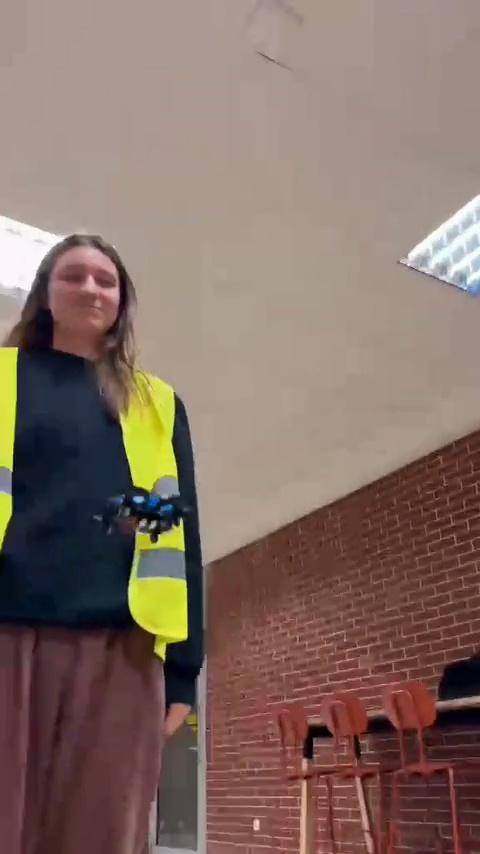drone: (83, 484, 195, 542)
vest: (3, 237, 210, 851)
